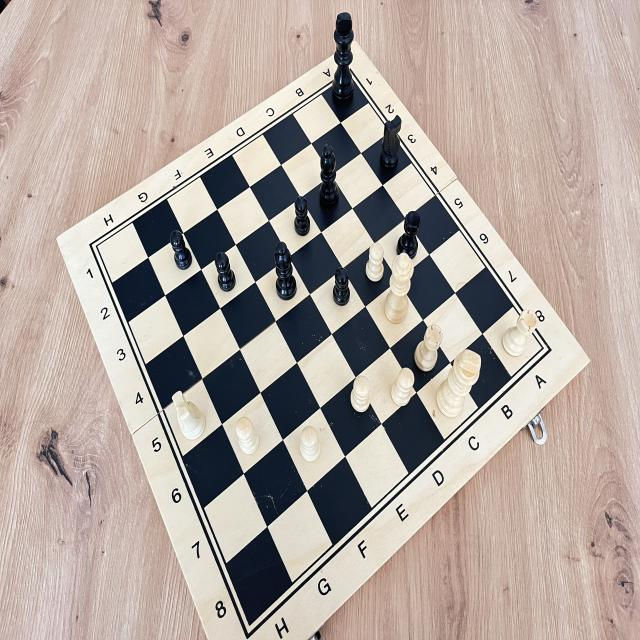black-bishop: (311, 138, 343, 217), (270, 235, 300, 305)
black-king: (321, 7, 364, 115)
black-knight: (372, 111, 413, 182)
black-pawn: (210, 248, 240, 296), (166, 225, 196, 273), (328, 261, 354, 308), (291, 194, 314, 238)
black-rook: (393, 203, 424, 272)
white-bishop: (168, 384, 209, 446)
white-king: (429, 342, 488, 422)
white-pawn: (294, 419, 326, 467), (386, 363, 418, 411), (232, 411, 262, 458), (347, 370, 374, 418), (363, 236, 387, 287)
white-queen: (378, 247, 416, 327)
white-rook: (499, 304, 540, 361), (412, 317, 446, 375)
